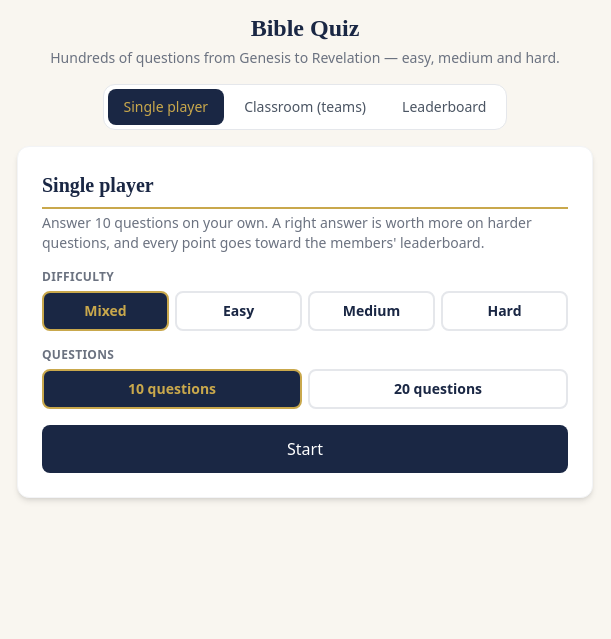
Test: Bible Quiz — single player › says why a game could not be dealt
This screenshot has width=611, height=639.
Click the button "Start". click: (305, 449)
box: [42, 425, 568, 473]
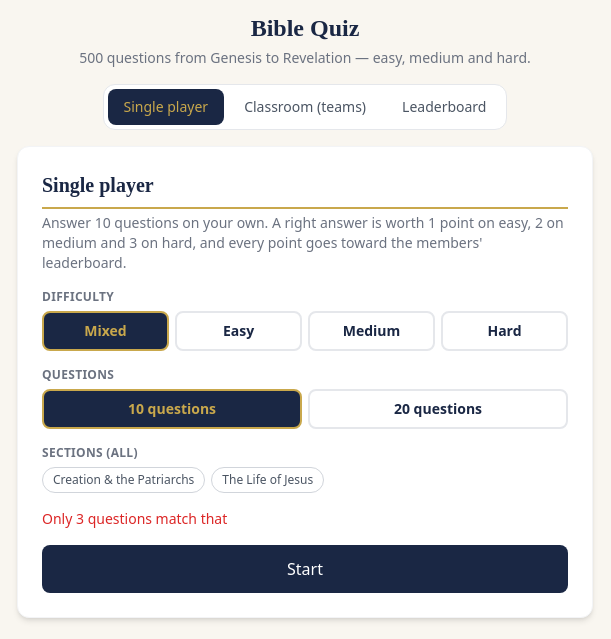
Expected: the message reads "Only 3 questions match that", [42, 509, 227, 528]
